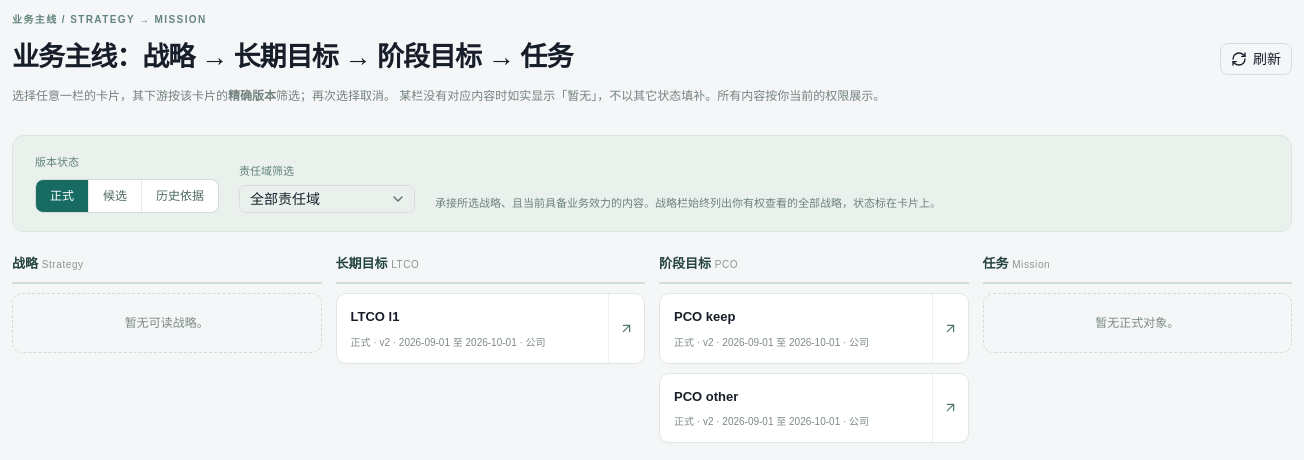
Test: reselecting an upstream card releases its downstream filter
Expected: the text "LTCO l1" is shown, [350,309,399,324]
Click the button with test id "lane-ltco-l1" at [375, 317], box [336,294,606,362]
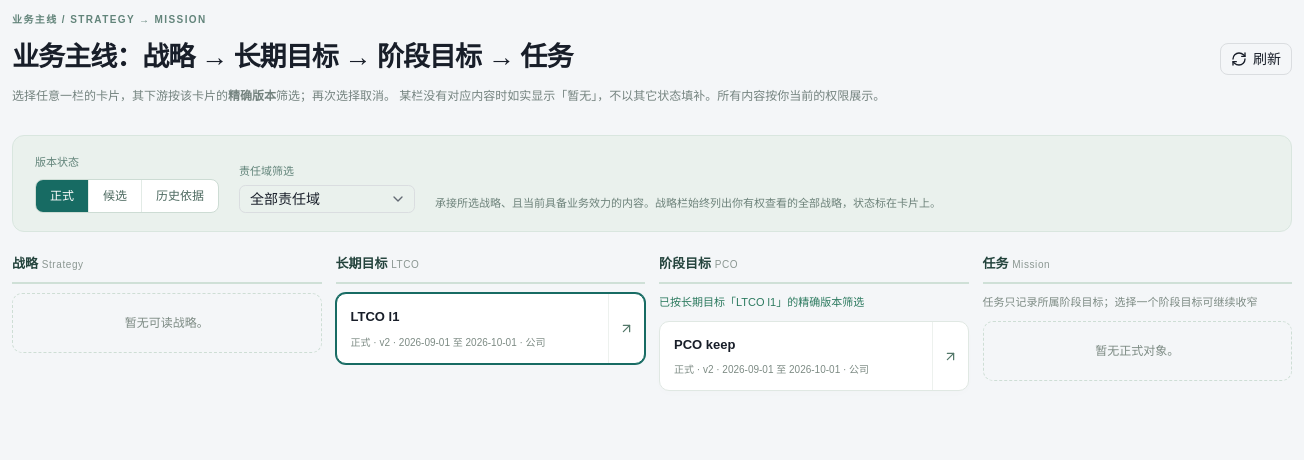
Now the button "PCO other" is gone
Click the button with test id "lane-ltco-l1" at [375, 317], box [336,294,606,362]
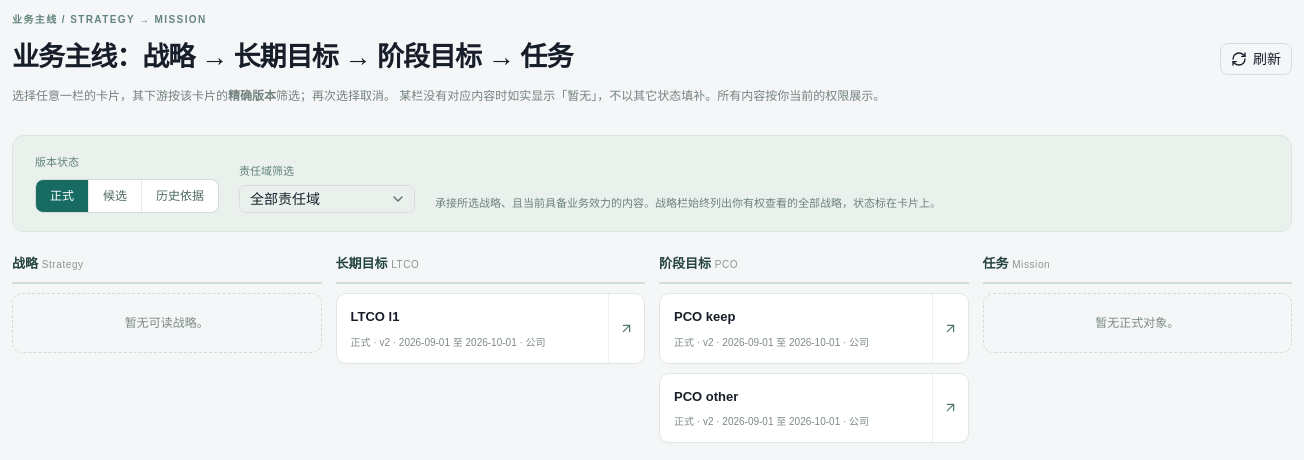
Now the text "PCO other" is shown, box [674,389,738,404]
